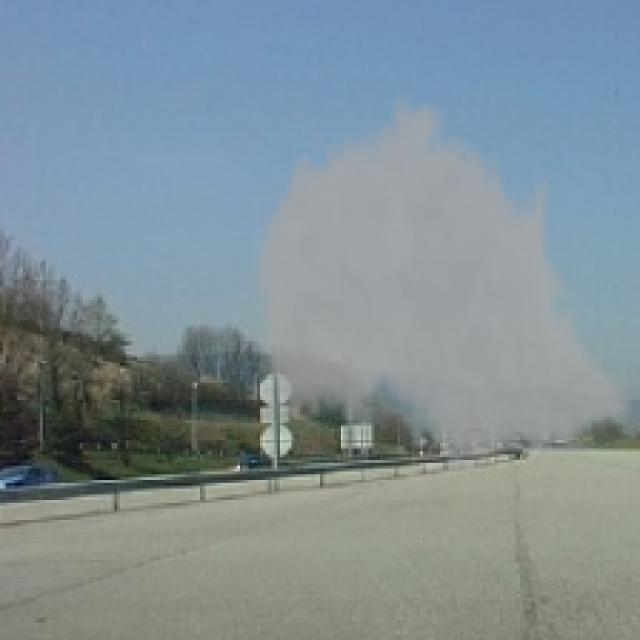Smoke: (248, 89, 634, 488)
